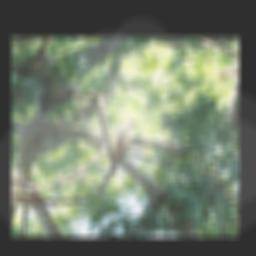Cuckoo: (62, 115, 169, 197)
